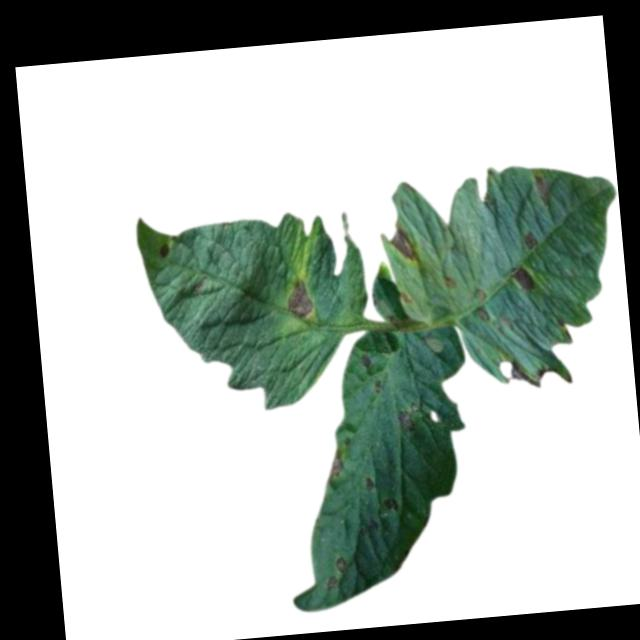Early_blight: (387, 223, 420, 263), (283, 277, 315, 318), (510, 262, 539, 294), (533, 173, 553, 210), (397, 407, 419, 431), (326, 451, 346, 477), (524, 228, 539, 248), (335, 552, 350, 572), (385, 493, 401, 511), (477, 307, 492, 322), (158, 242, 170, 258), (359, 353, 372, 367)
